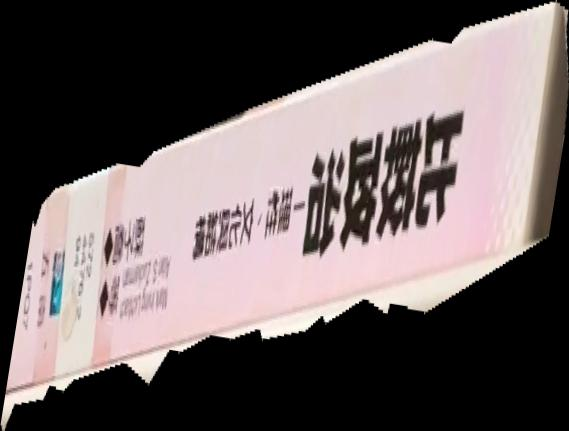flat: (1, 1, 569, 431)
